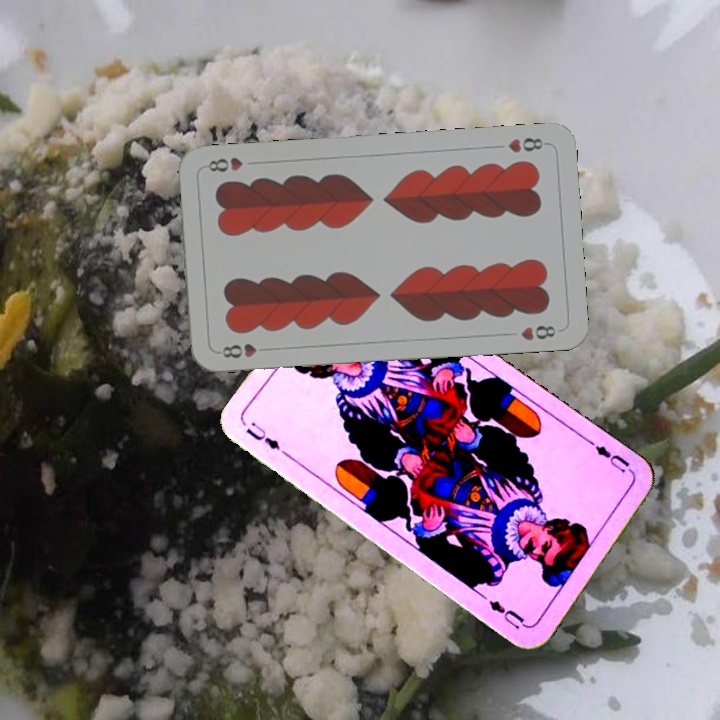EU: (590, 441, 636, 477), (242, 418, 283, 453)
H8: (504, 133, 550, 156), (214, 339, 259, 361)
